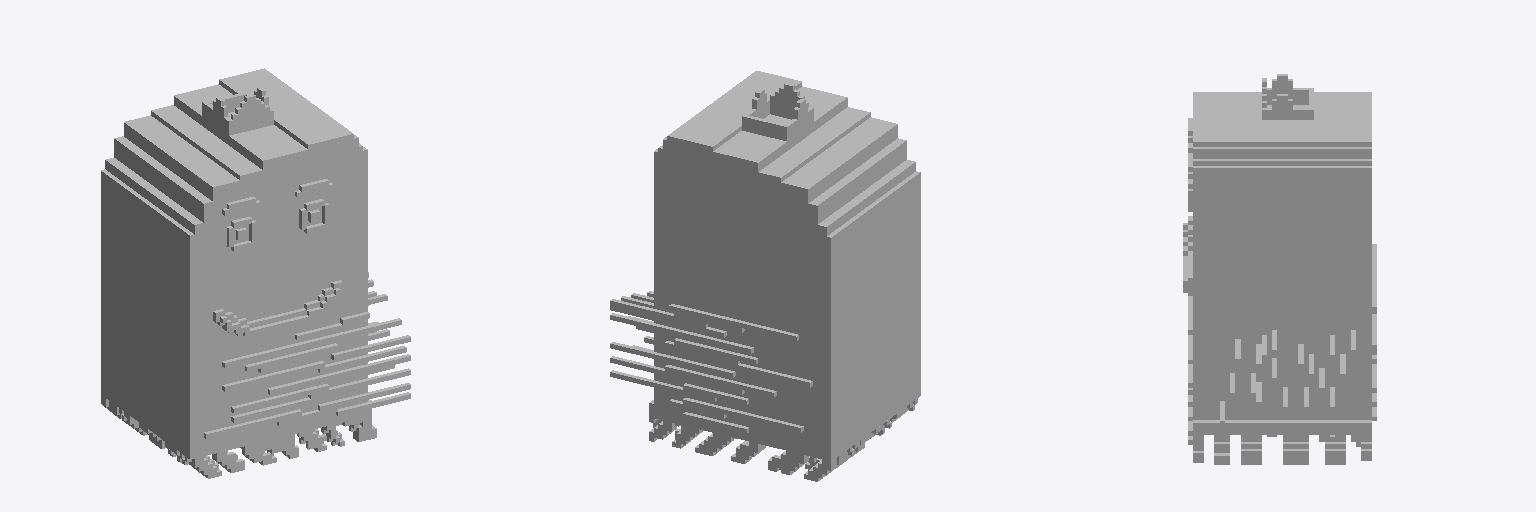
File: ghost a 3.obj
3 views of the same model, side by side, from view 1: azimuth 30°, elevation 25°; view 2: azimuth 150°, elevation 25°; view 3: azimuth 270°, elevation 25° (orthographic).
Visible parts, largest first — view 1: object 1; view 2: object 1; view 3: object 1.
Boxes of the visible parts, x1=… form: object 1: x1=101, y1=68, x2=410, y2=478; object 1: x1=610, y1=71, x2=920, y2=481; object 1: x1=1183, y1=74, x2=1376, y2=464.
Size of the model in its own units: 4.8 by 7.1 by 3.7.